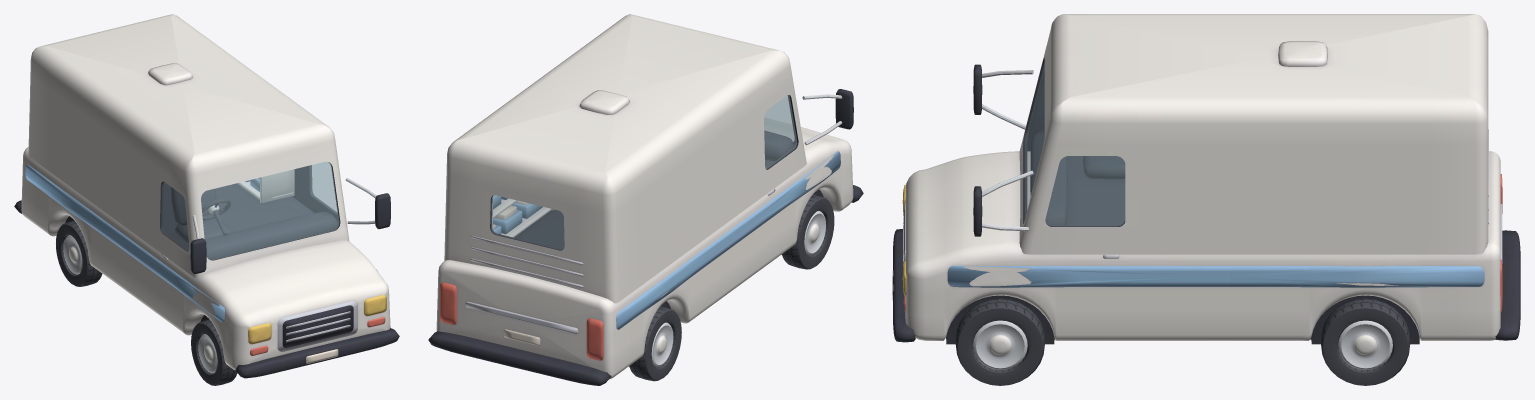
Rendered from mail-truck.glb.
3 views of the same model, side by side, from view 1: azimuth 30°, elevation 25°; view 2: azimuth 150°, elevation 25°; view 3: azimuth 270°, elevation 25° (orthographic). The views are drawn at different scales.
Visible parts, largest first — view 1: mail-truck_body, mail-truck_windows, mail-truck_wheel_fr, mail-truck_wheel_rr; view 2: mail-truck_body, mail-truck_windows, mail-truck_wheel_fr, mail-truck_wheel_rr; view 3: mail-truck_body, mail-truck_windows, mail-truck_wheel_rl, mail-truck_wheel_fl.
Boxes of the visible parts, left/top/right/bottom form: mail-truck_body: left=14, top=14, right=399, bottom=378; mail-truck_windows: left=161, top=161, right=339, bottom=259; mail-truck_wheel_fr: left=191, top=319, right=237, bottom=385; mail-truck_wheel_rr: left=56, top=220, right=102, bottom=286; mail-truck_body: left=428, top=14, right=863, bottom=385; mail-truck_windows: left=491, top=95, right=796, bottom=249; mail-truck_wheel_fr: left=781, top=194, right=834, bottom=269; mail-truck_wheel_rr: left=629, top=306, right=681, bottom=381; mail-truck_body: left=892, top=14, right=1520, bottom=344; mail-truck_windows: left=1025, top=64, right=1124, bottom=225; mail-truck_wheel_rl: left=1320, top=298, right=1410, bottom=385; mail-truck_wheel_fl: left=955, top=298, right=1045, bottom=385.
Size of the model in its own units: 2.48 by 2.54 by 5.02.
6 materials, 2 textured.
